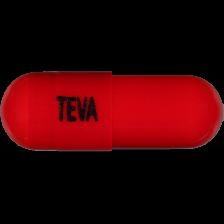69189-3147: (0, 0, 224, 224)
